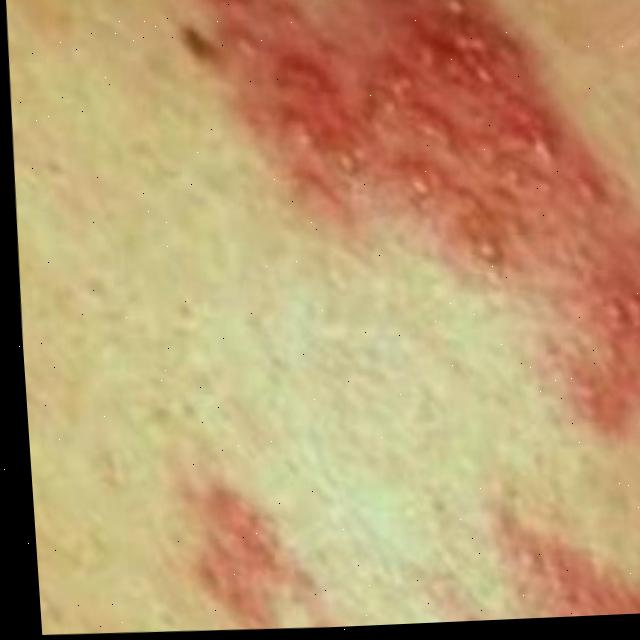Shingles: (142, 0, 640, 634)
